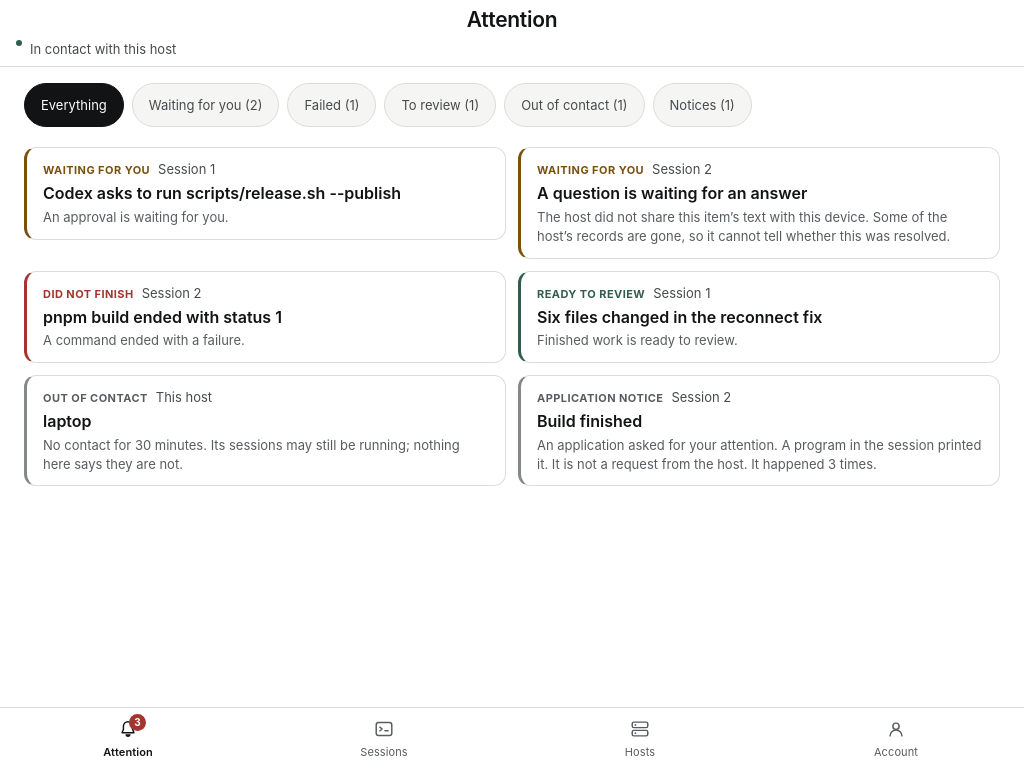
Scenario: reading what deleting does › shows the money before the button that sends the code, whether or not a warning came
This screenshot has width=1024, height=768.
Click the button "Account". click: (896, 738)
box: x1=768 y1=708 x2=1023 y2=767
(page scrolled)
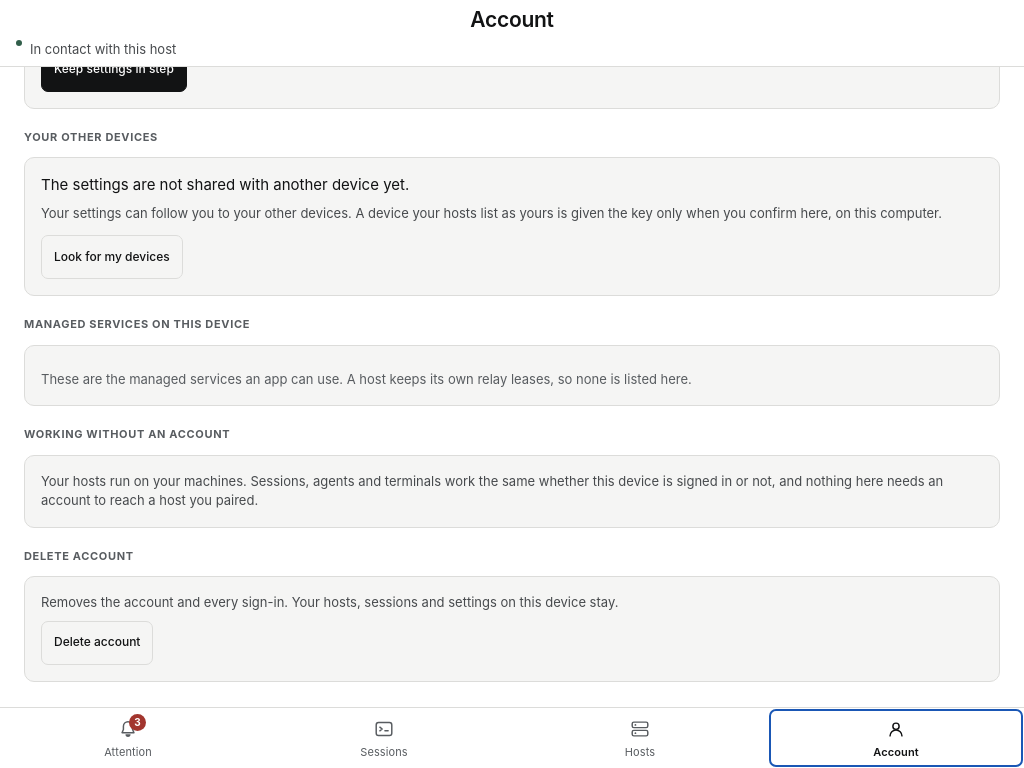
Click the button with test id "delete-account-open". click: (97, 643)
box: x1=41 y1=621 x2=153 y2=665
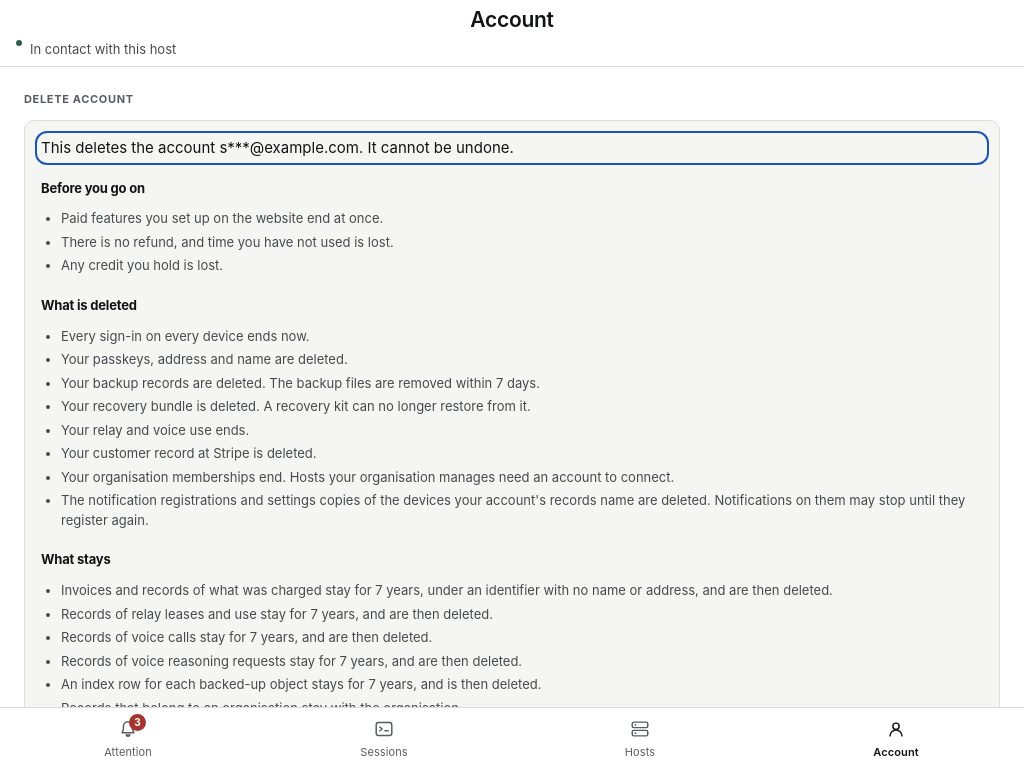
Expected: the list with test id "delete-account-before" is shown, x1=61 y1=210 x2=394 y2=273
